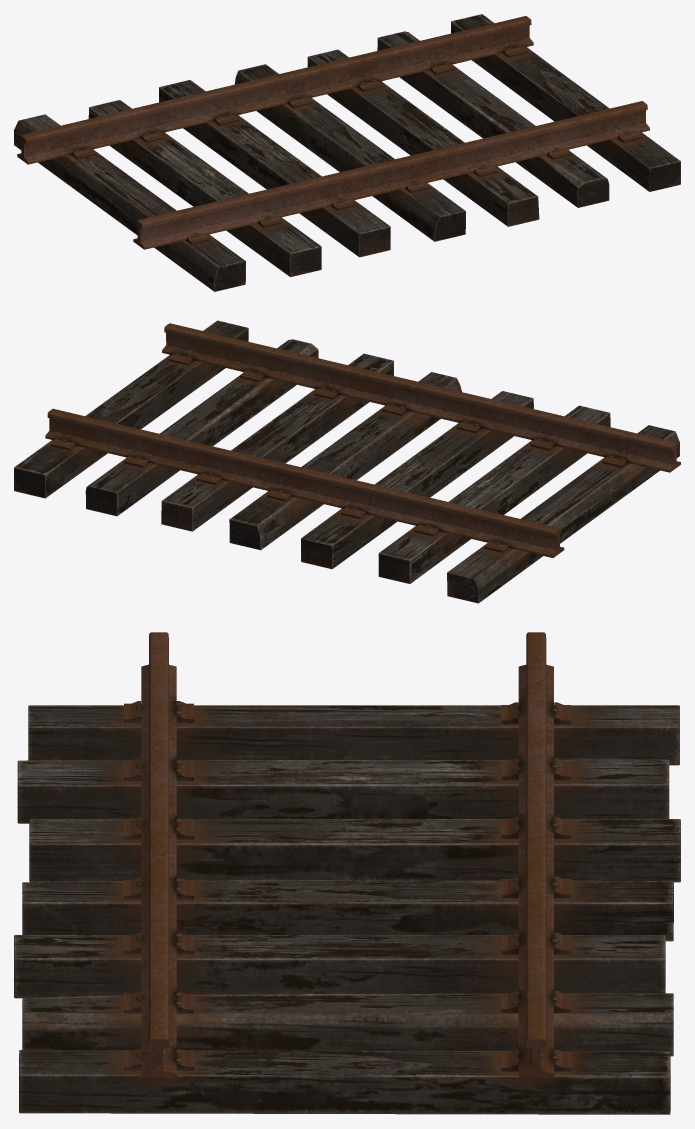
The model's file is SM_FreightTrack.glb.
3 views of the same model, one above another, from view 1: azimuth 30°, elevation 25°; view 2: azimuth 150°, elevation 25°; view 3: azimuth 270°, elevation 25° (orthographic). The views are drawn at different scales.
Visible parts, largest first — view 1: SM_FreightTrack; view 2: SM_FreightTrack; view 3: SM_FreightTrack.
Boxes of the visible parts, x1=… form: SM_FreightTrack: x1=14, y1=14, x2=680, y2=291; SM_FreightTrack: x1=14, y1=320, x2=680, y2=603; SM_FreightTrack: x1=14, y1=632, x2=680, y2=1114.
Bounding box in the file's own units: 4 × 0.4019 × 2.82.
1 material, 1 textured.
